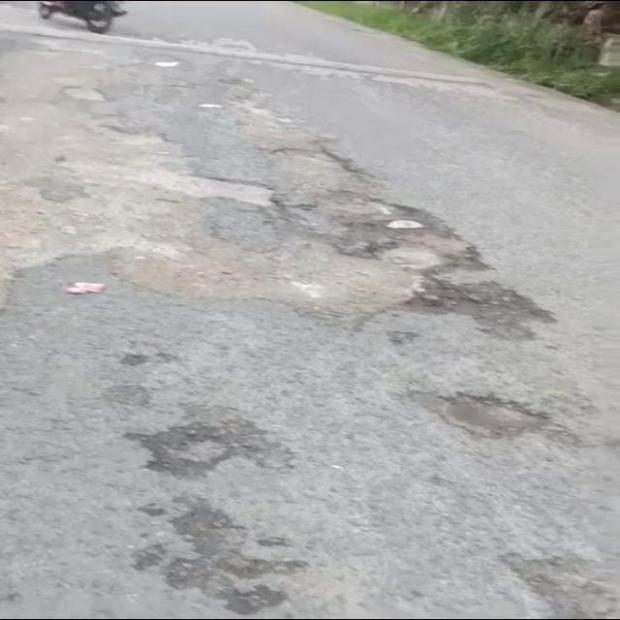lubang: (1, 105, 553, 337), (135, 500, 306, 614), (124, 419, 292, 477), (503, 553, 619, 616), (409, 390, 548, 438)
